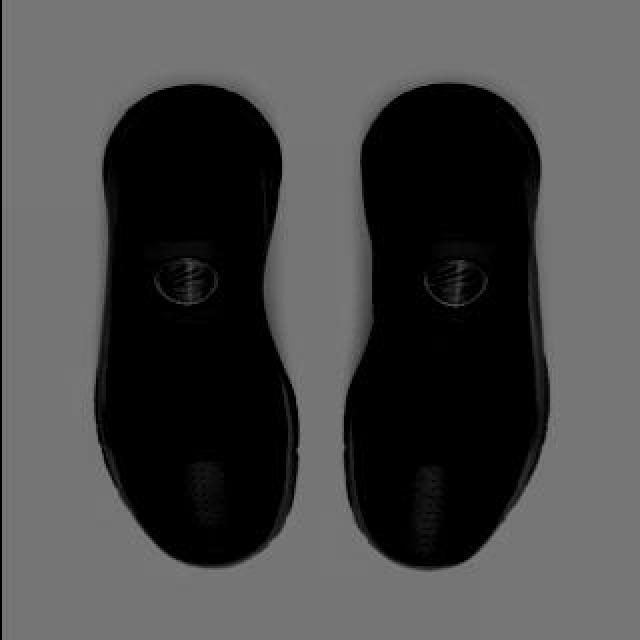shoe: (341, 81, 549, 569), (94, 77, 300, 569)
